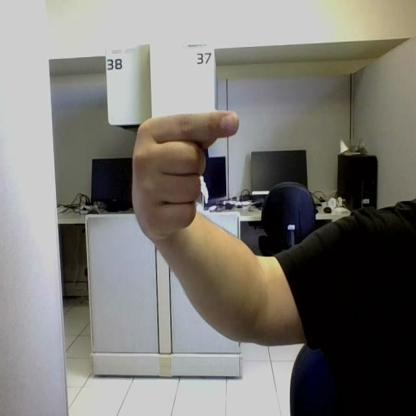G: (133, 112, 239, 236)
